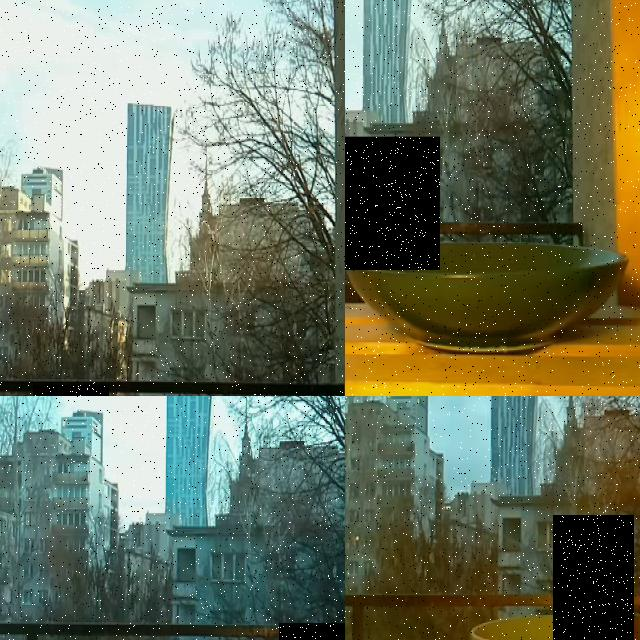Bogatka: (553, 515, 634, 640)
Wrobel: (345, 136, 440, 270)
